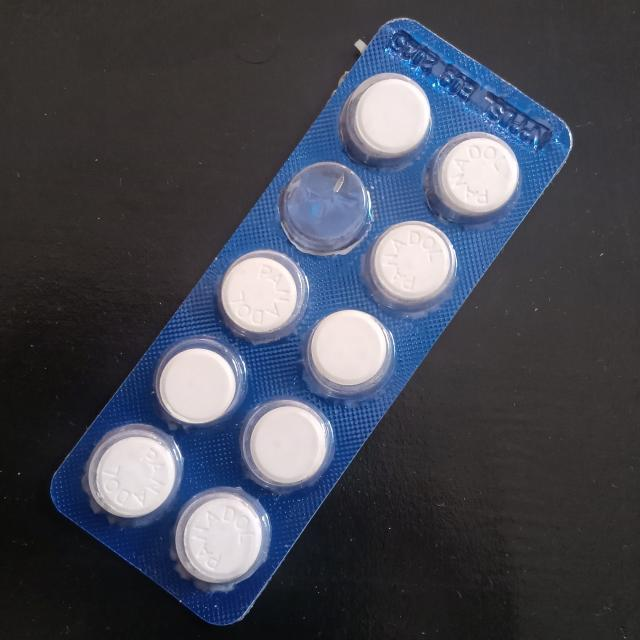defect: (278, 158, 372, 258)
